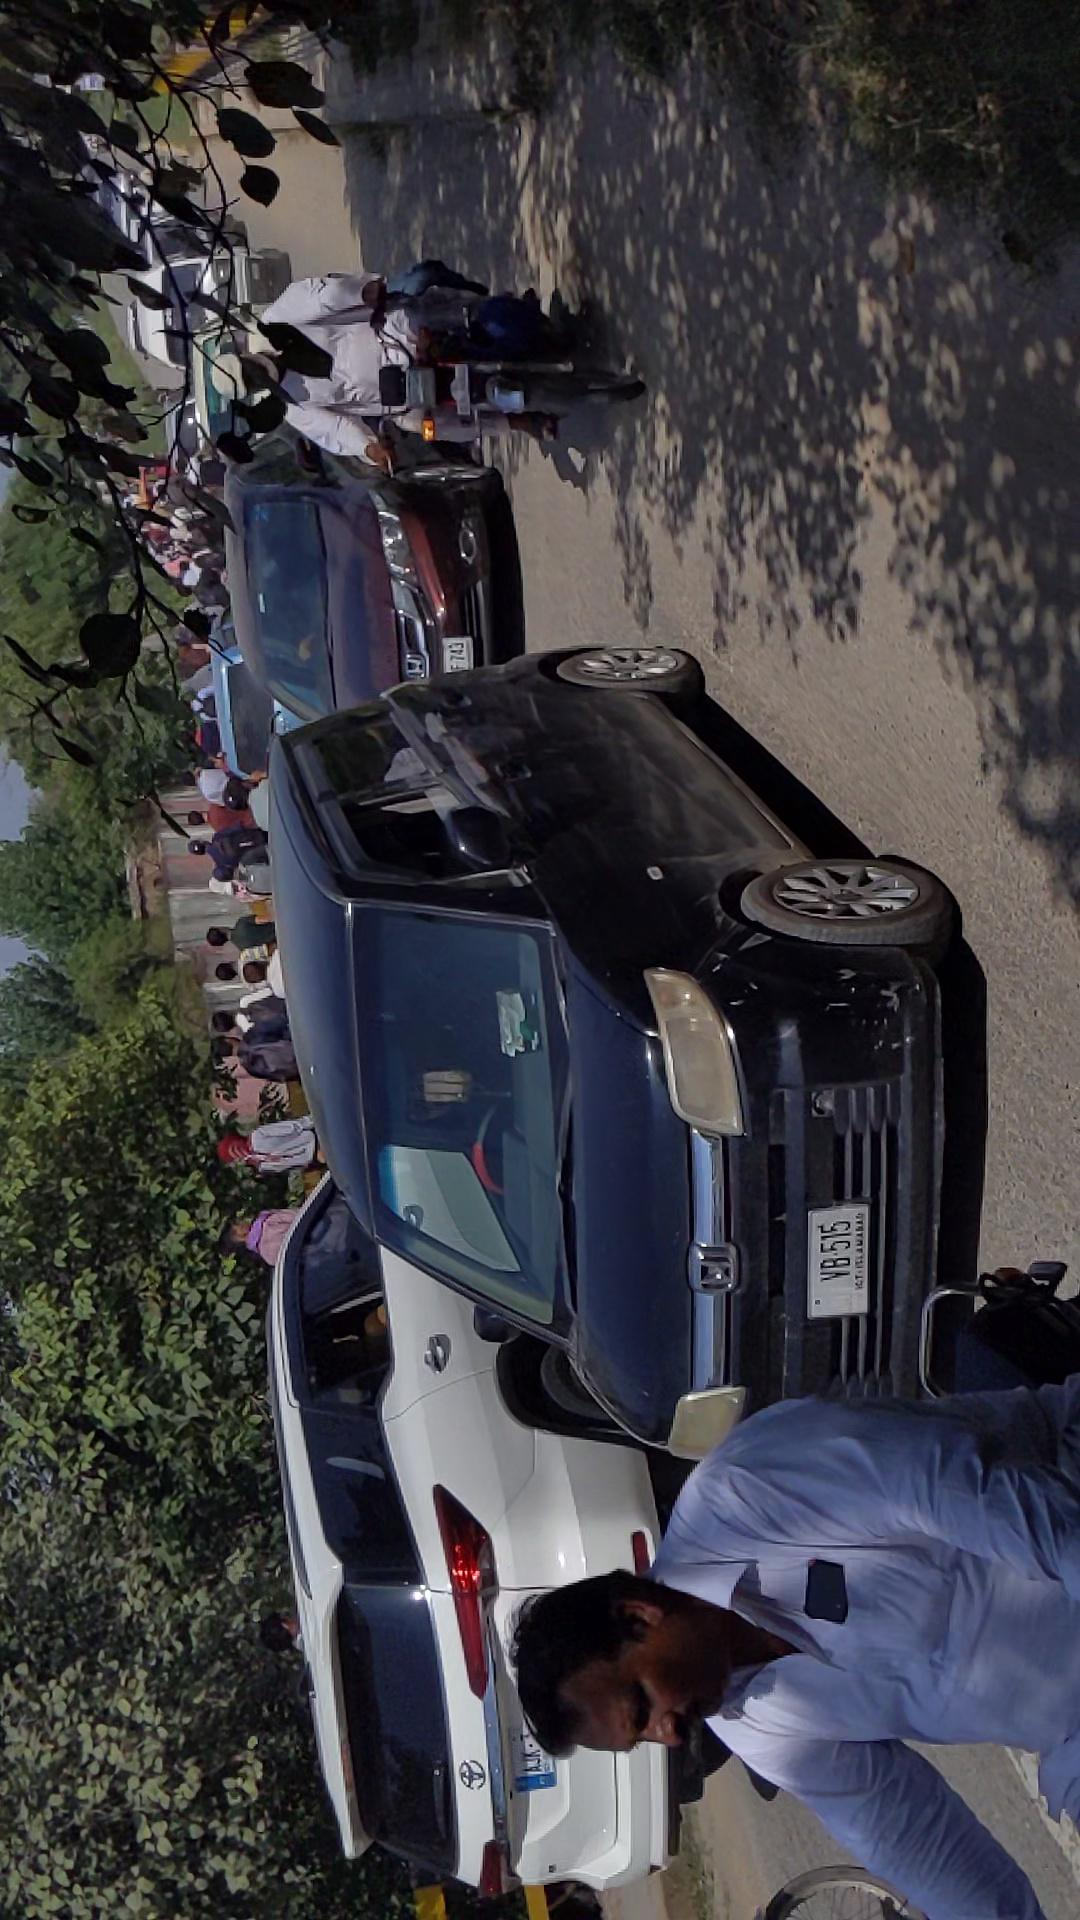windshield: (323, 622, 578, 1001), (674, 421, 803, 580)
